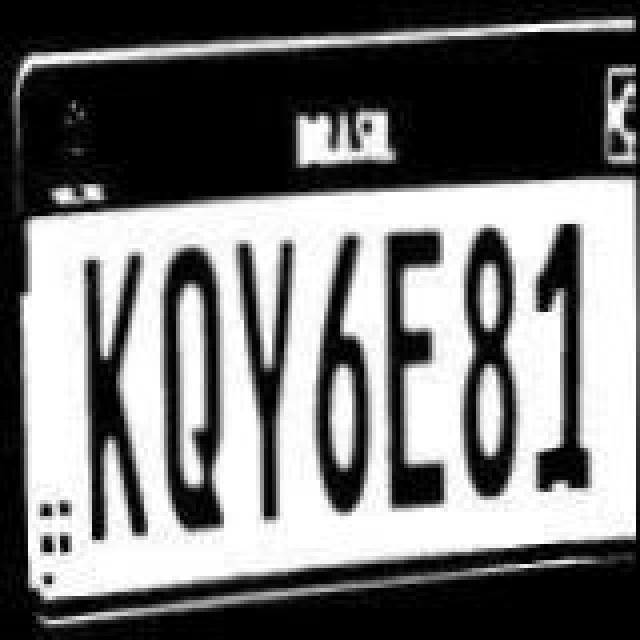1: (530, 212, 602, 524)
6: (306, 220, 378, 536)
8: (456, 216, 524, 524)
E: (376, 214, 452, 530)
K: (78, 230, 154, 554)
Q: (152, 222, 228, 538)
Y: (234, 214, 306, 534)
